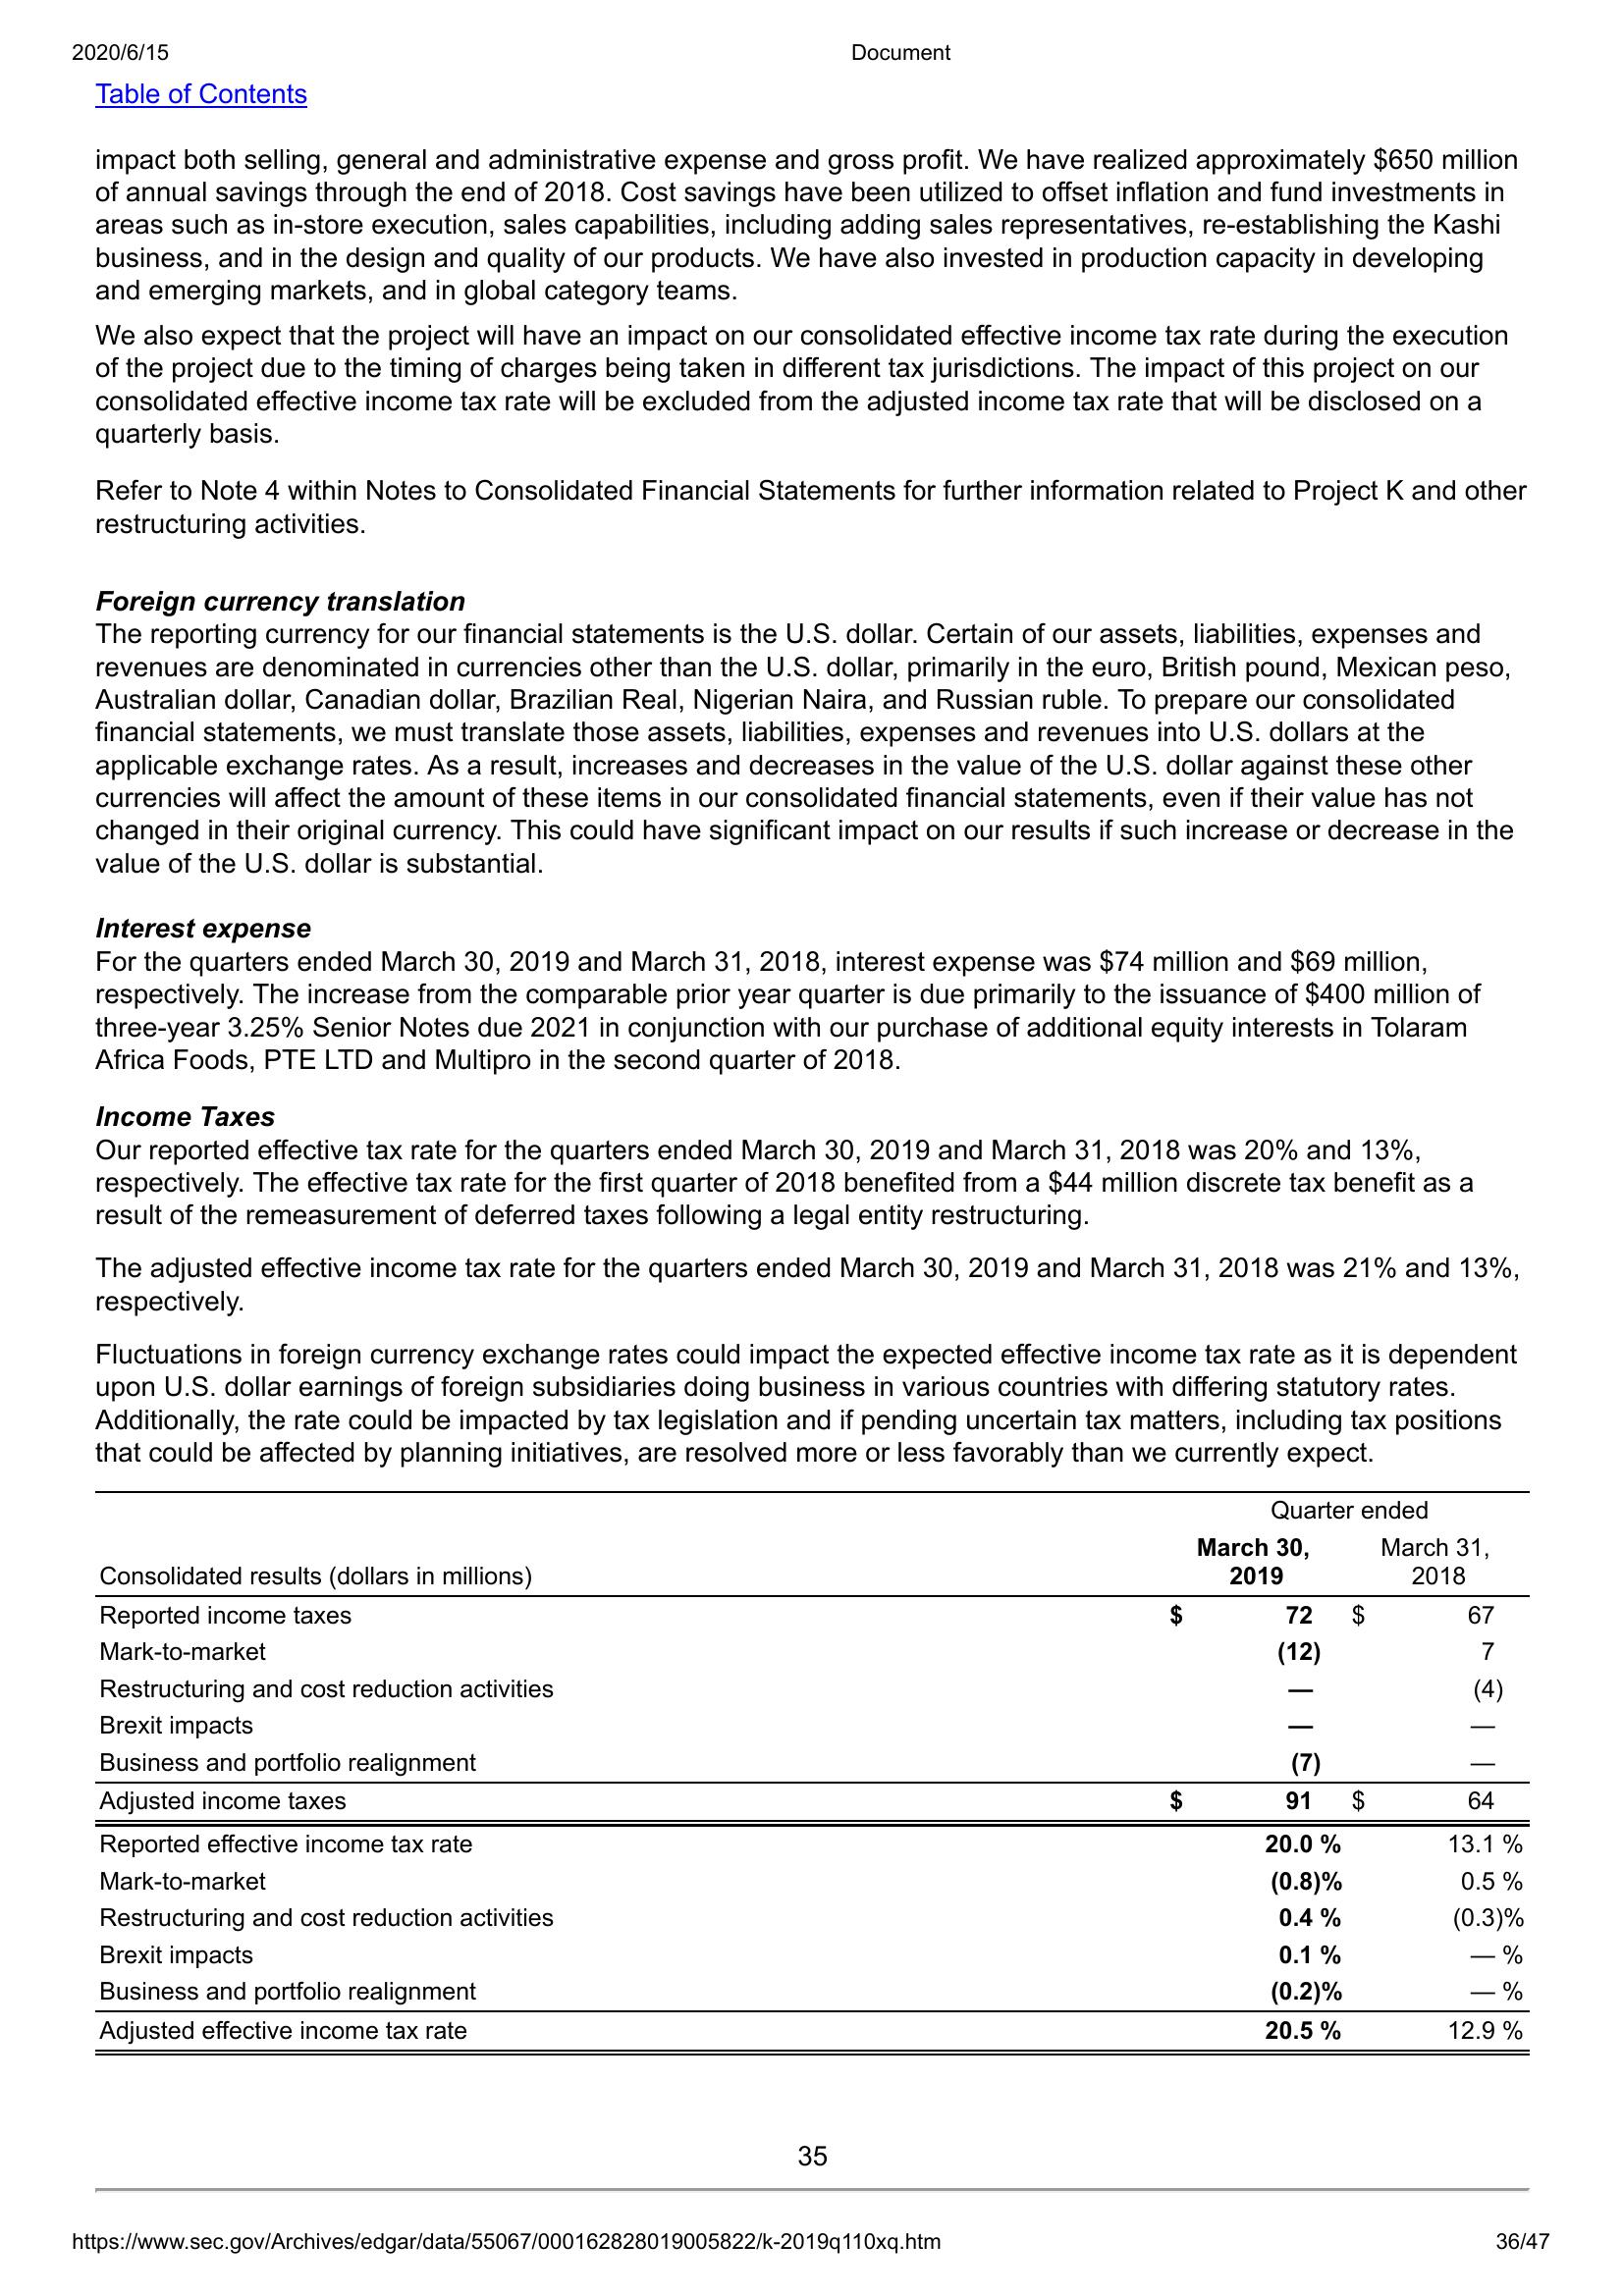table: (95, 1483, 1539, 2063)
